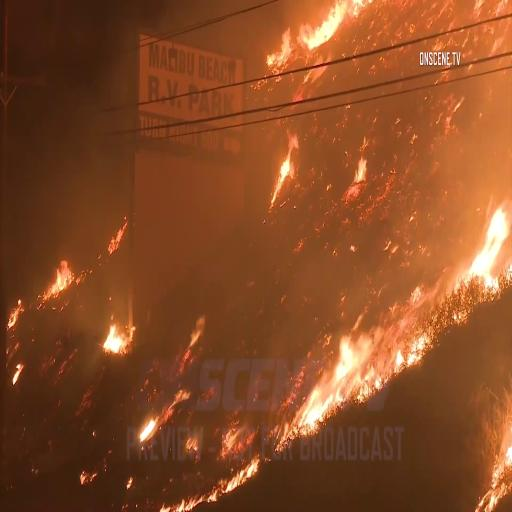fire: (288, 305, 358, 409), (468, 204, 510, 304), (291, 0, 346, 53), (39, 256, 73, 304), (99, 317, 131, 364)
